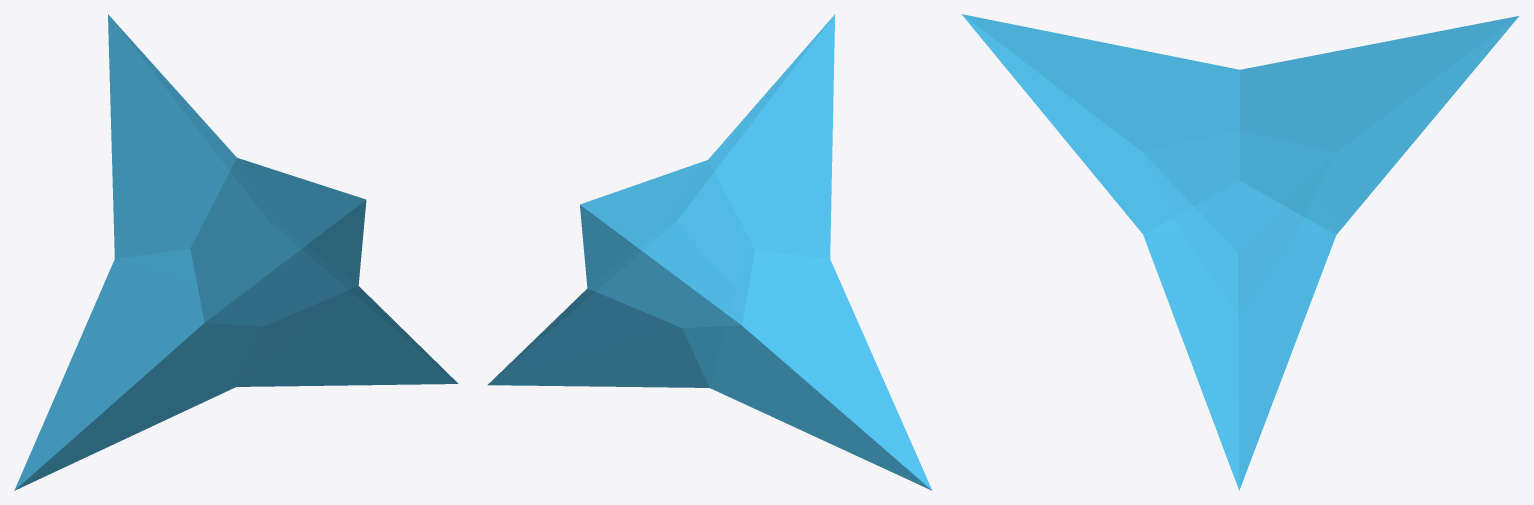
The model's file is TrapezohedralTristetrahedron_n1.obj.
3 renders of one model, left to right at view 1: azimuth 30°, elevation 25°; view 2: azimuth 150°, elevation 25°; view 3: azimuth 270°, elevation 25°, orthographic. The views are drawn at different scales.
Bounding box in the file's own units: 10.39 × 7.4 × 10.4.
